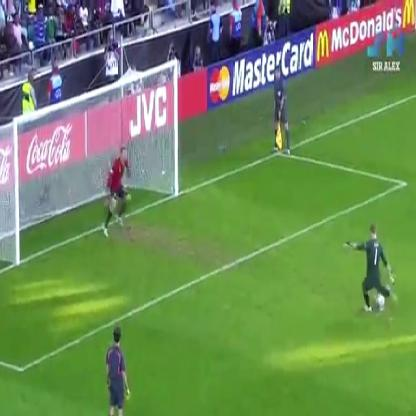penalty kick: (10, 80, 404, 321)
